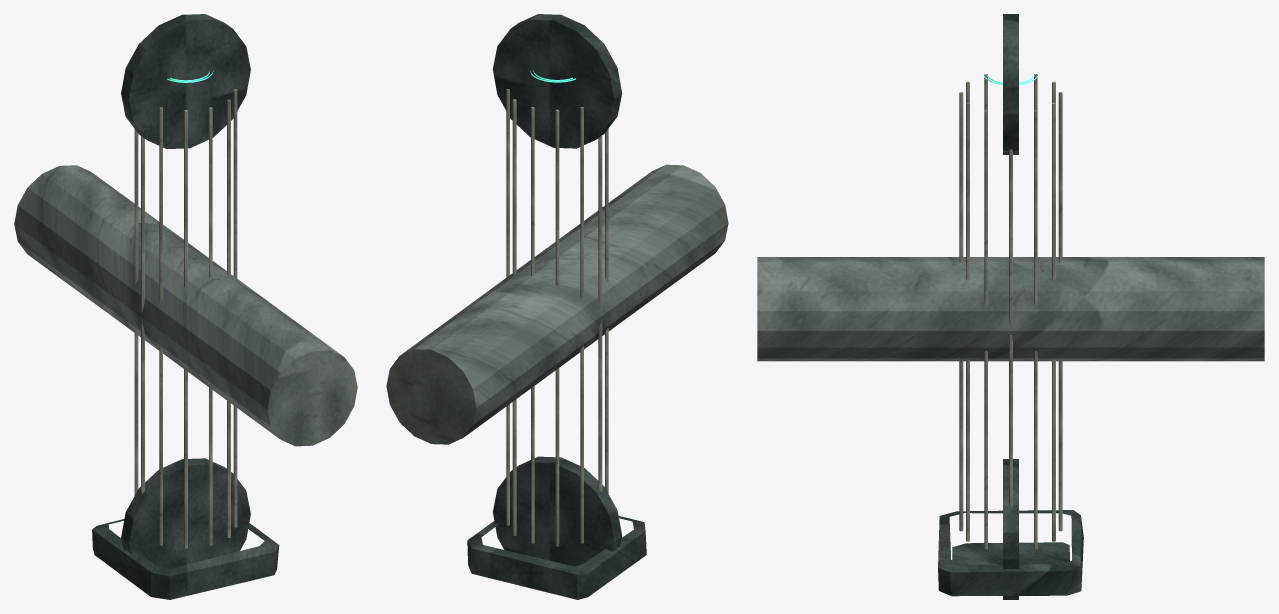
The model's file is 0295_fluted_column_20.glb.
3 views of the same model, side by side, from view 1: azimuth 30°, elevation 25°; view 2: azimuth 150°, elevation 25°; view 3: azimuth 270°, elevation 25° (orthographic).
Visible parts, largest first — view 1: stone, stone_dark, stone_light; view 2: stone, stone_dark, stone_light; view 3: stone, stone_dark, stone_light.
Boxes of the visible parts, left/top/right/bottom form: stone: left=14, top=165, right=357, bottom=446; stone_dark: left=92, top=14, right=279, bottom=599; stone_light: left=134, top=89, right=237, bottom=548; stone: left=386, top=164, right=728, bottom=444; stone_dark: left=467, top=14, right=646, bottom=599; stone_light: left=506, top=89, right=608, bottom=546; stone: left=757, top=257, right=1264, bottom=361; stone_dark: left=938, top=14, right=1083, bottom=599; stone_light: left=959, top=74, right=1062, bottom=549.
Bounding box in the file's own units: 1.27 × 5.53 × 4.44.
4 materials, 4 textured.
